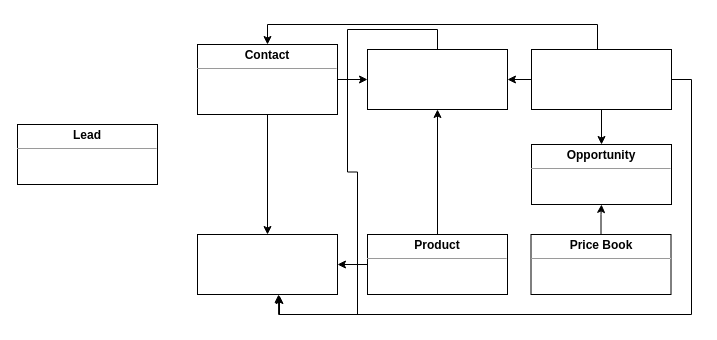
This 717x340 diagram has some shape labels left out. The shapes that lost their labels are listed below. From the top down, each one's centre as x and y in pixels, then its label:
At (x=437, y=79): "Asset".
At (x=601, y=79): "Account".
At (x=267, y=264): "Case".
